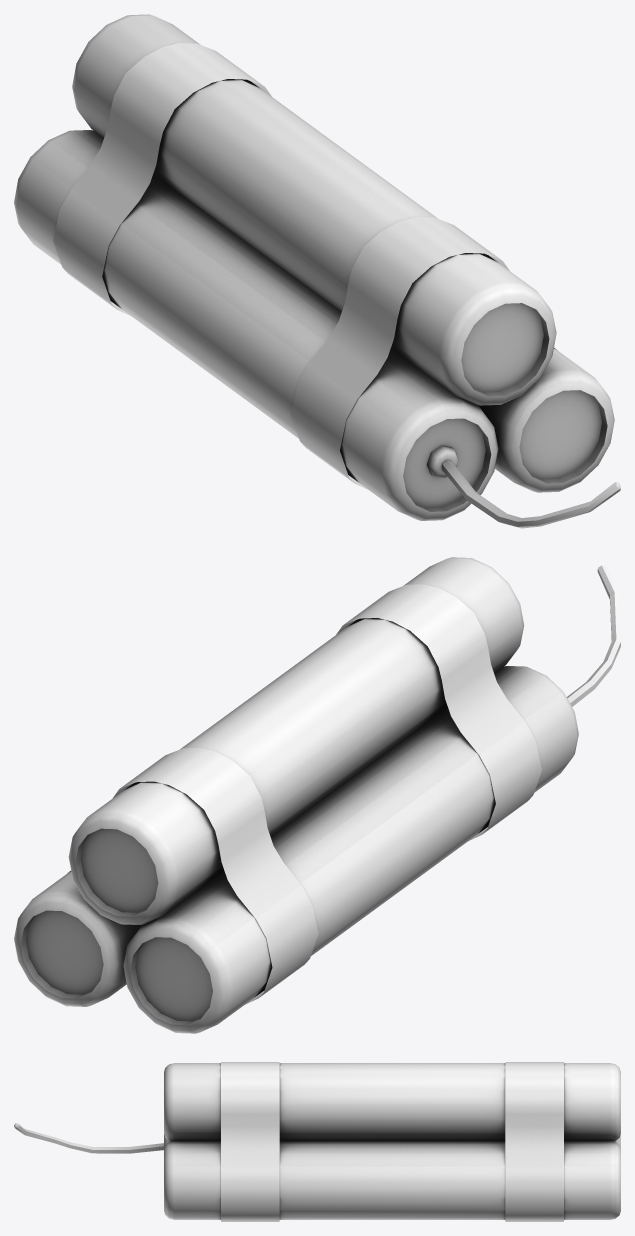
File: Dynamite.obj
The picture shows the model from 3 angles, top to bottom: view 1: azimuth 30°, elevation 25°; view 2: azimuth 150°, elevation 25°; view 3: azimuth 270°, elevation 25°; orthographic projection. The views are drawn at different scales.
Parts seen in each view (by area): view 1: Dynamite_Cylinder.001; view 2: Dynamite_Cylinder.001; view 3: Dynamite_Cylinder.001.
Part boxes in pixels (box(x1,y1,x2,y2)): Dynamite_Cylinder.001: box(14, 14, 620, 528); Dynamite_Cylinder.001: box(14, 557, 620, 1033); Dynamite_Cylinder.001: box(14, 1062, 620, 1221).
Size of the model in its own units: 1.68 by 1.51 by 6.25.
